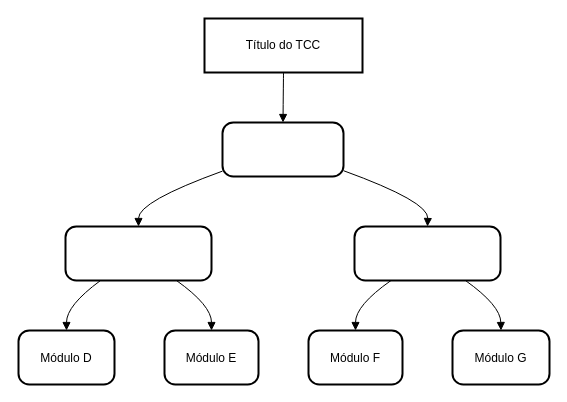
Image size: 567x402. Some labels were removed from this diagram. The centre of each missing label's shape, as x and y in pixels:
"Sistema de A" goes at point 282,149.
"Subsistema de B" goes at point 138,253.
"Subsistema de C" goes at point 427,253.
